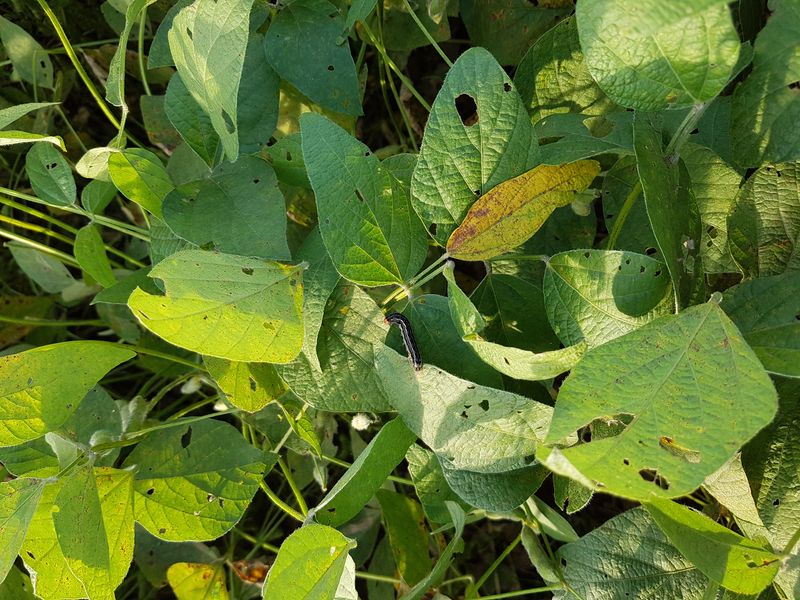Spodoptera_albula: (370, 304, 443, 377)
